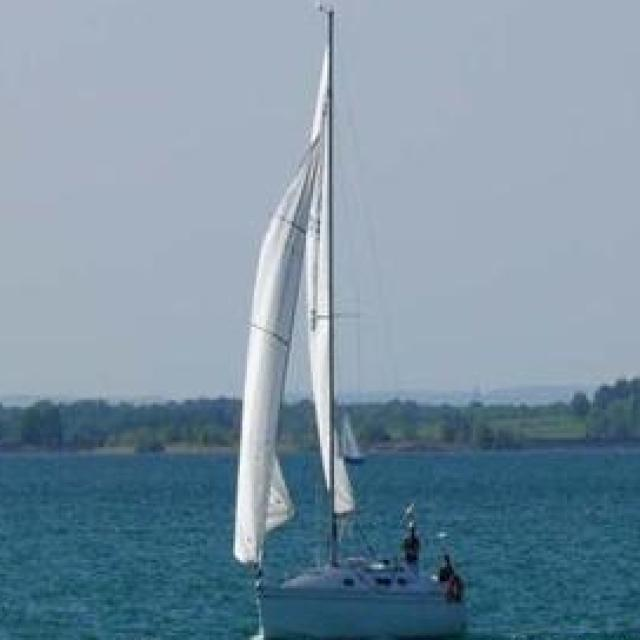sailboat: (236, 0, 468, 640)
